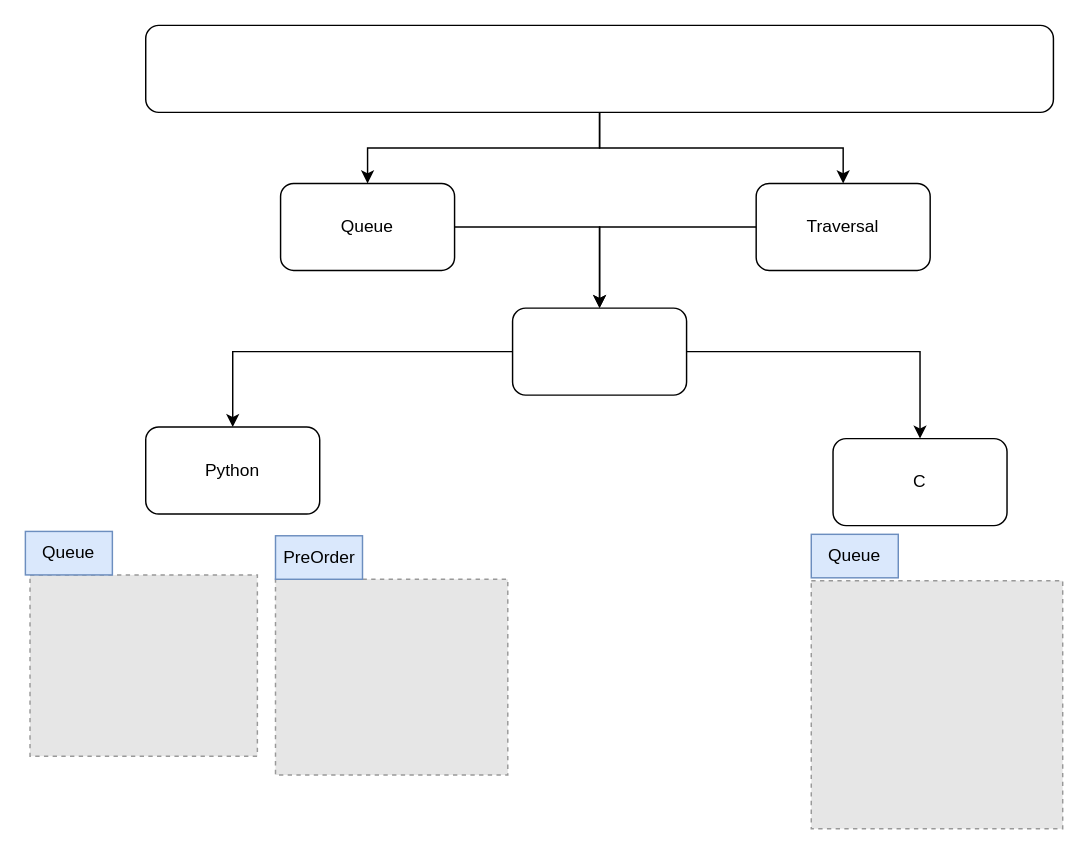
This 1089x854 diagram has some shape labels left out. Grey dashed boxes stand in for pictures. The shapes that lost their labels are listed below. From the top down, each one's box as (x1, y1, x2, y2) in pixels, then its label:
(144, 24, 1053, 112): 題目: 由左右左的順序，從第一層到最後一層，交替替換node出現的順序
(511, 307, 687, 395): Implementation
